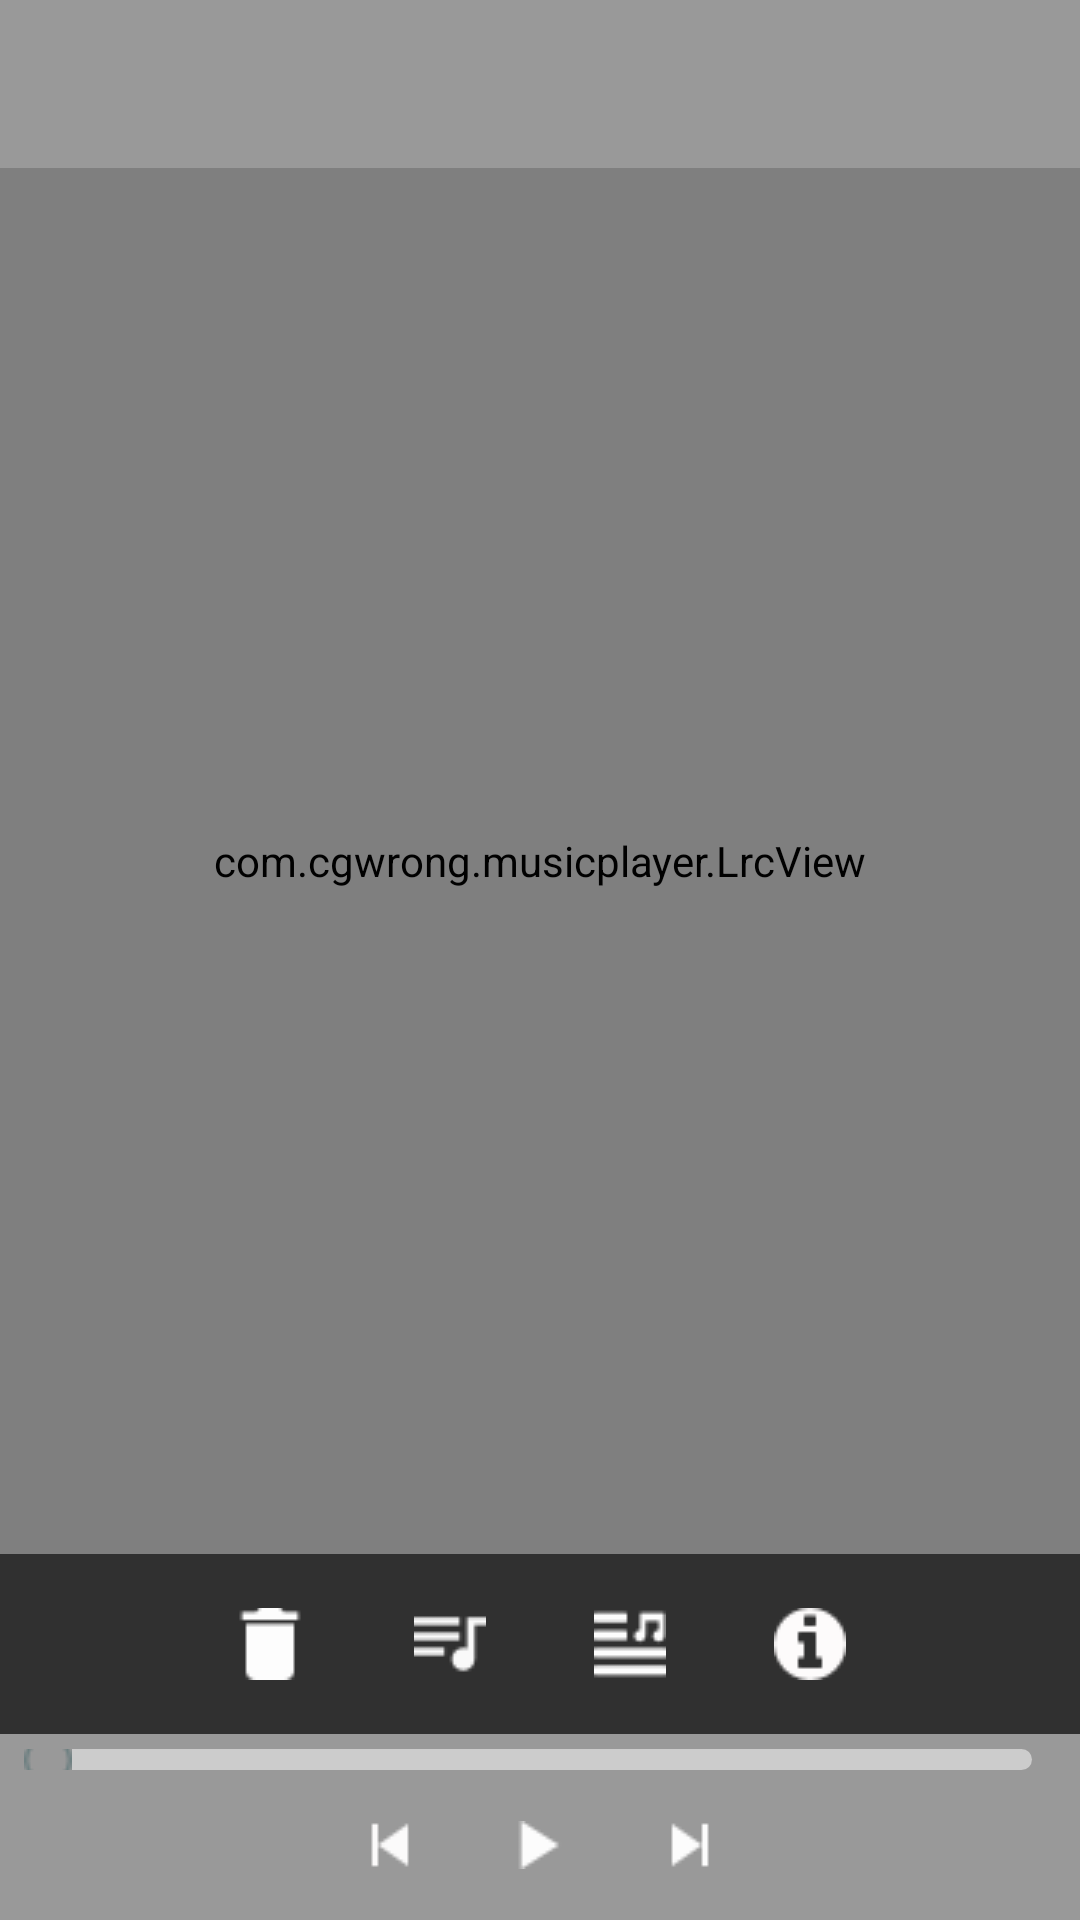

Icon bounding boxes for this 1080px x 1920px phone screenshot, format (x1, y1, x2, y2):
add to list: (414, 1616, 486, 1672)
delete: (240, 1608, 300, 1680)
information: (774, 1608, 846, 1680)
lyric: (594, 1610, 666, 1678)
next: (671, 1823, 709, 1867)
play: (520, 1821, 558, 1869)
previous: (371, 1823, 409, 1867)
